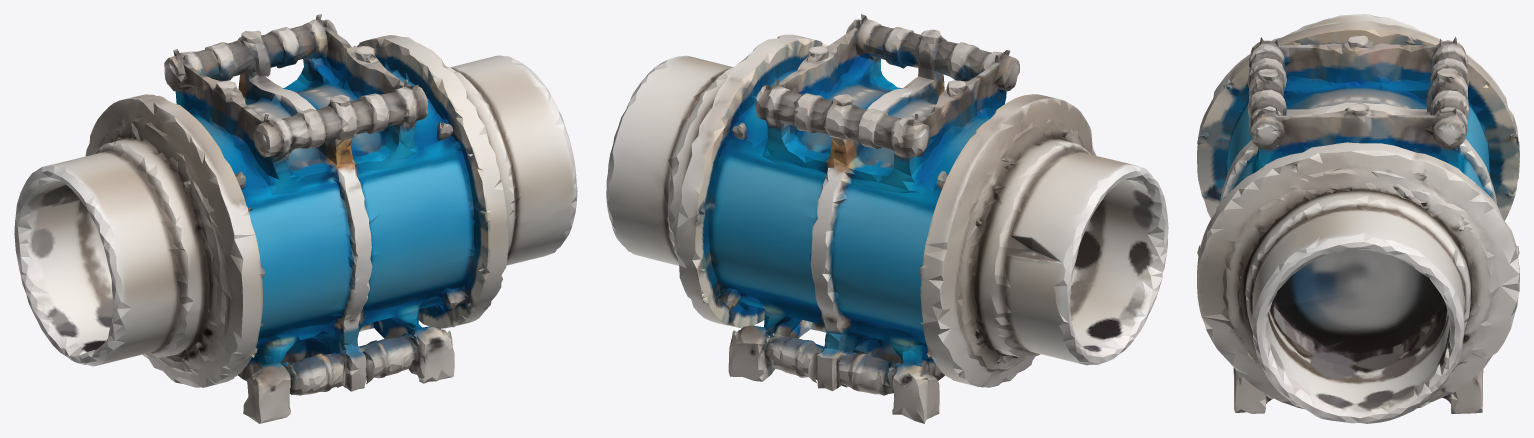
Rendered from falcon_engine_aux.glb.
3 views of the same model, side by side, from view 1: azimuth 30°, elevation 25°; view 2: azimuth 150°, elevation 25°; view 3: azimuth 270°, elevation 25° (orthographic).
Parts seen in each view (by area): view 1: falcon_engine_aux; view 2: falcon_engine_aux; view 3: falcon_engine_aux.
Boxes of the visible parts, x1,y1,x2,y2 form: falcon_engine_aux: (14, 14, 577, 423); falcon_engine_aux: (606, 14, 1168, 423); falcon_engine_aux: (1197, 14, 1519, 423).
Bounding box in the file's own units: 1.9 × 1.13 × 1.13.
Materials: 1 (1 with a texture image).
